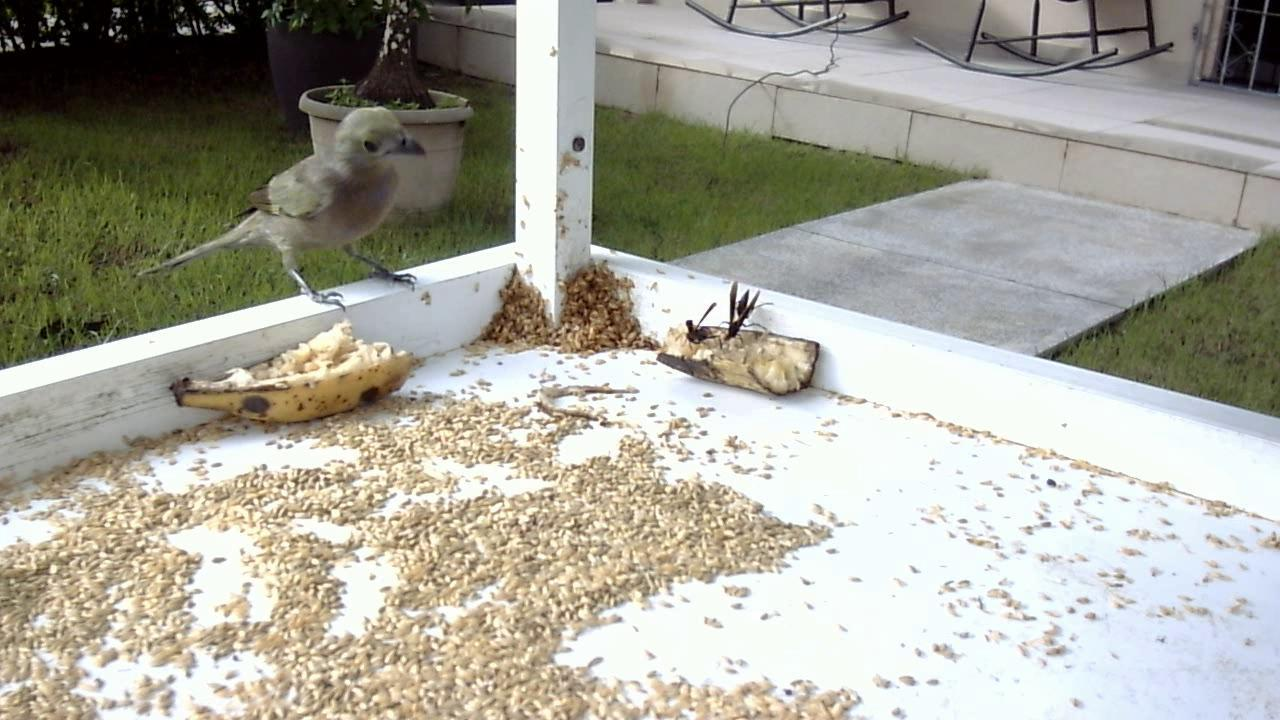sanhaco_do_coqueiro: (129, 103, 436, 326)
